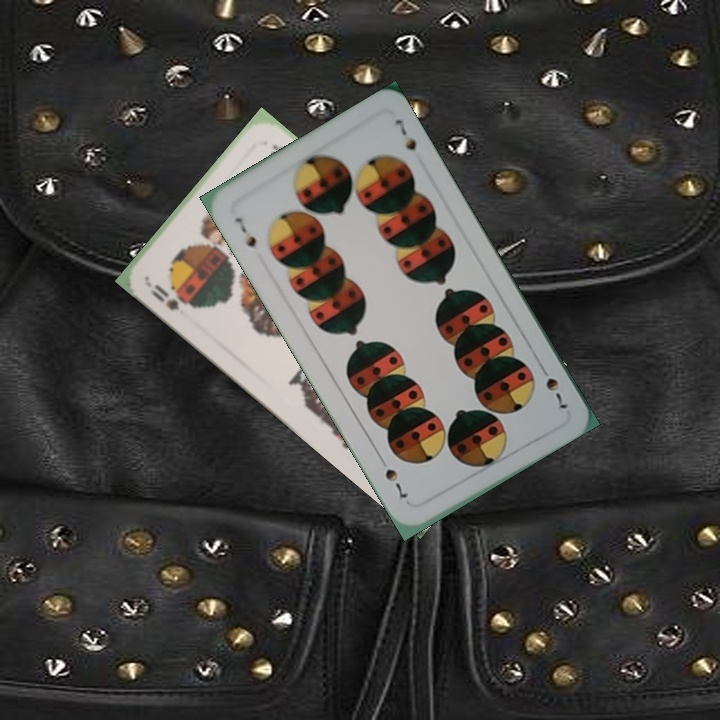S7: (535, 360, 571, 415), (231, 213, 259, 250)
SO: (146, 279, 198, 313)
